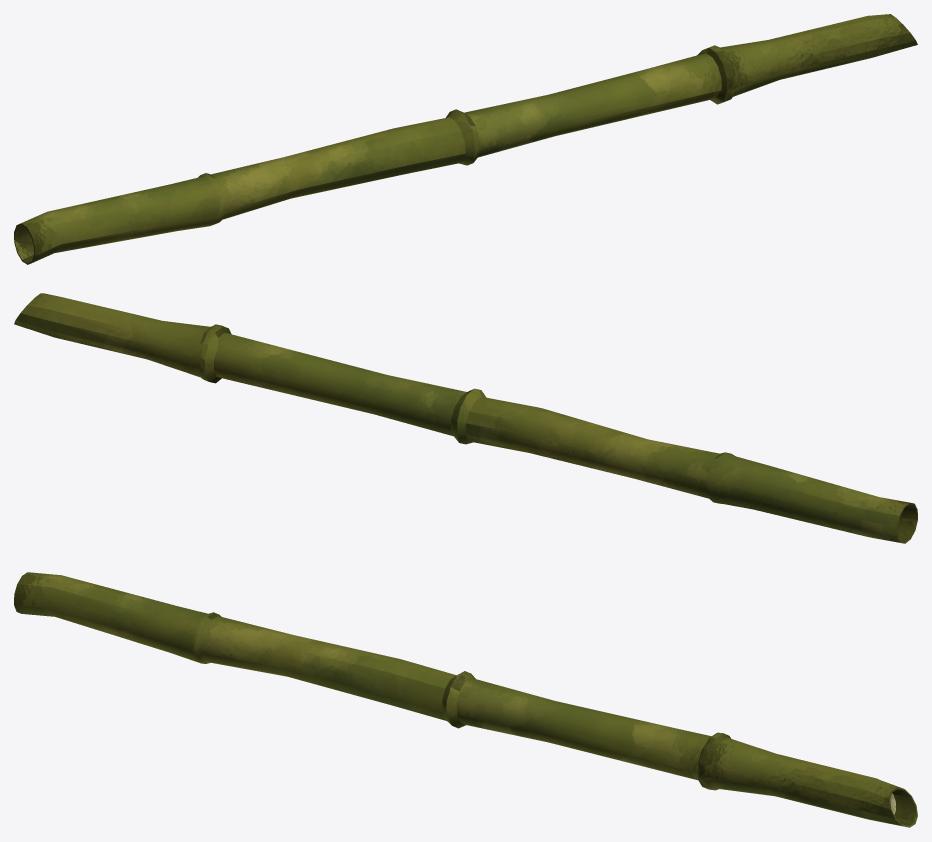
Rendered from Bambu Cortado medio.fbx.
3 views of the same model, one above another, from view 1: azimuth 30°, elevation 25°; view 2: azimuth 150°, elevation 25°; view 3: azimuth 330°, elevation 25° (orthographic).
Visible parts, largest first — view 1: Bambu Cortado medio; view 2: Bambu Cortado medio; view 3: Bambu Cortado medio.
Part boxes in pixels (x1=…): Bambu Cortado medio: x1=14, y1=14, x2=917, y2=264; Bambu Cortado medio: x1=14, y1=293, x2=917, y2=543; Bambu Cortado medio: x1=14, y1=572, x2=917, y2=827.
Bounding box in the file's own units: 172 × 9.72 × 9.58.
Materials: 1 (1 with a texture image).
